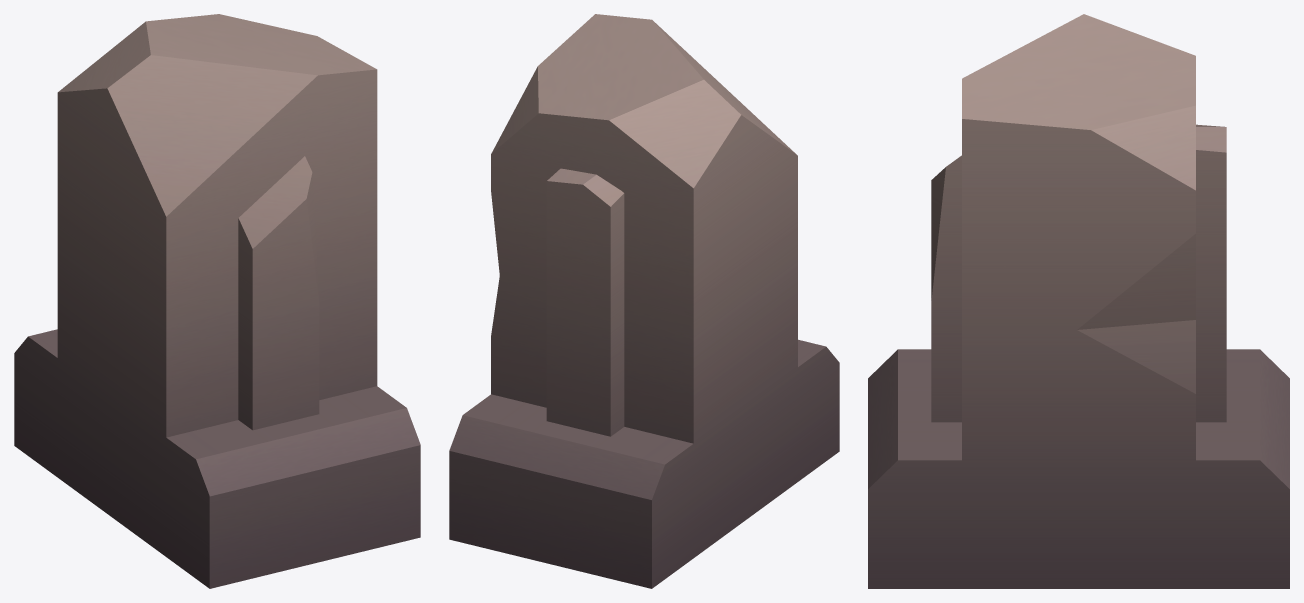
The model's file is fenceAPillar7.glb.
3 views of the same model, side by side, from view 1: azimuth 30°, elevation 25°; view 2: azimuth 150°, elevation 25°; view 3: azimuth 270°, elevation 25° (orthographic). The views are drawn at different scales.
Parts seen in each view (by area): view 1: fenceAPillar7; view 2: fenceAPillar7; view 3: fenceAPillar7.
Boxes of the visible parts, bbox=[...] form: fenceAPillar7: bbox=[14, 14, 420, 588]; fenceAPillar7: bbox=[449, 14, 839, 588]; fenceAPillar7: bbox=[868, 14, 1289, 588].
Bounding box in the file's own units: 0.5077 × 1.04 × 0.8154.
Materials: 1 (1 with a texture image).
